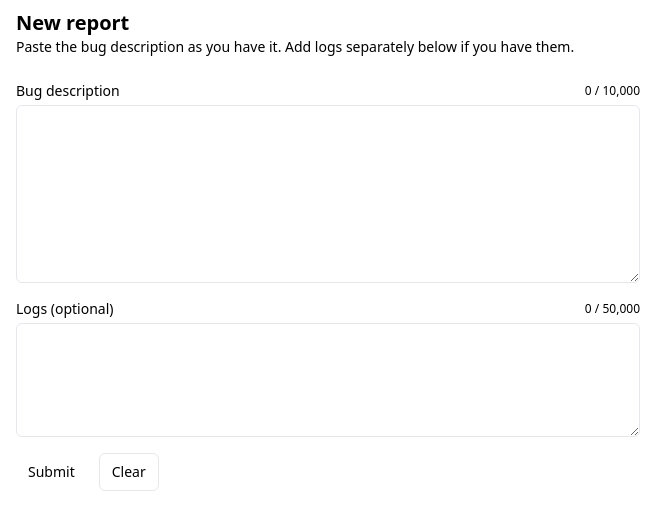
Test: NewReport › shows a live character counter for the description
Type "twelve chars" into the text box labelled "Bug description". click: coordinates (328, 194)
box: x1=16 y1=105 x2=640 y2=283
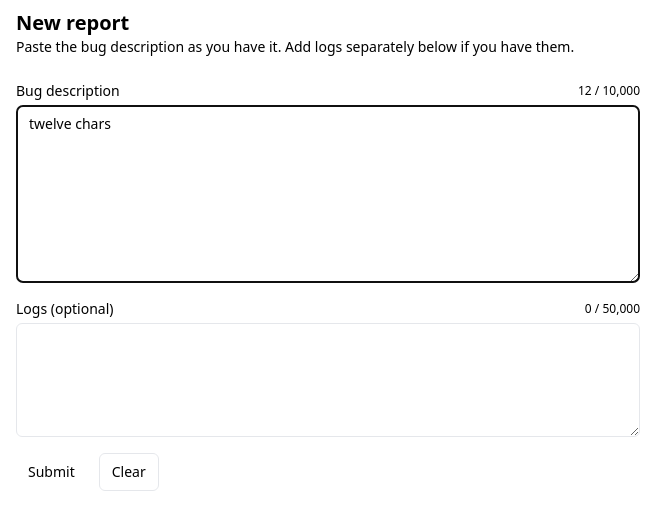
Expected: the text "12 / 10,000" is shown, x1=578 y1=83 x2=640 y2=99
